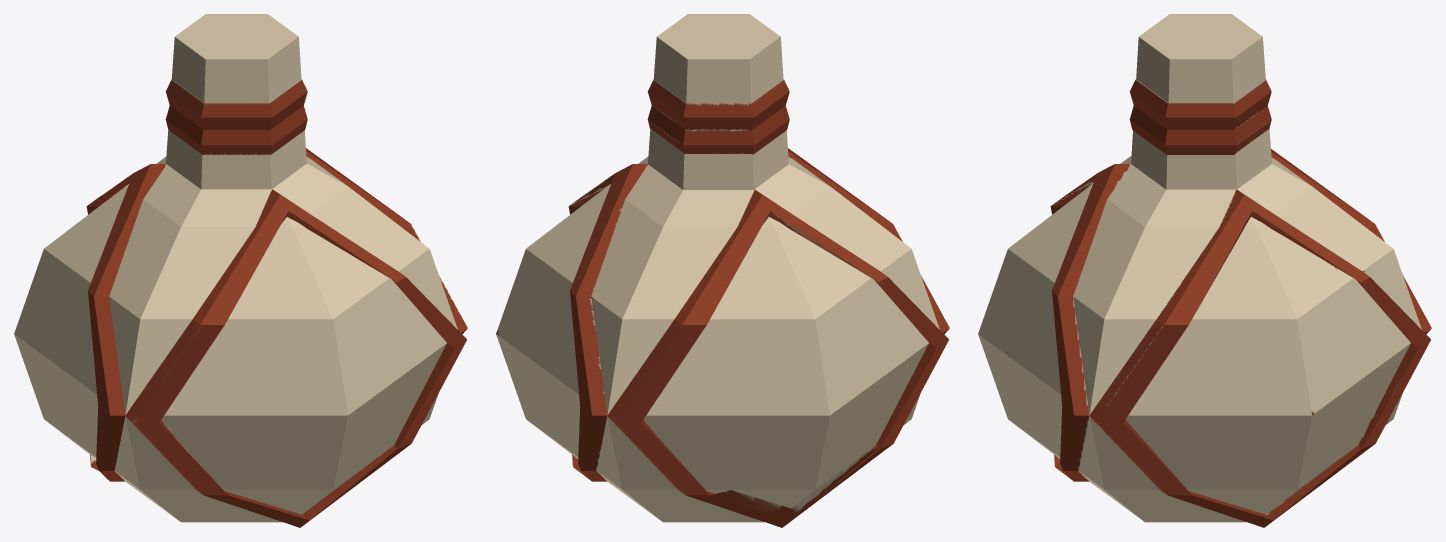
File: world.fbx
3 views of the same model, side by side, from view 1: azimuth 30°, elevation 25°; view 2: azimuth 150°, elevation 25°; view 3: azimuth 270°, elevation 25° (orthographic).
Parts seen in each view (by area): view 1: Сфера; view 2: Сфера; view 3: Сфера.
Part boxes in pixels (left/top/right/bottom): Сфера: left=14, top=14, right=467, bottom=527; Сфера: left=496, top=14, right=949, bottom=527; Сфера: left=978, top=14, right=1431, bottom=527.
Size of the model in its own units: 220 by 261 by 241.
1 material, 1 textured.
